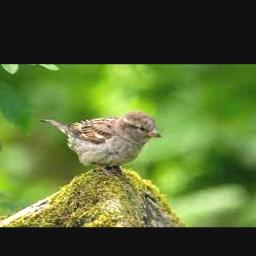Sparrow: (41, 110, 162, 175)
